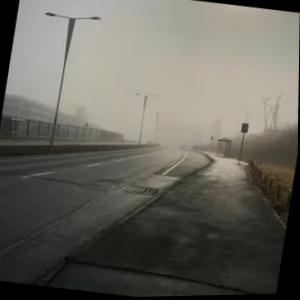Animal: (23, 5, 97, 154), (128, 86, 158, 145)
